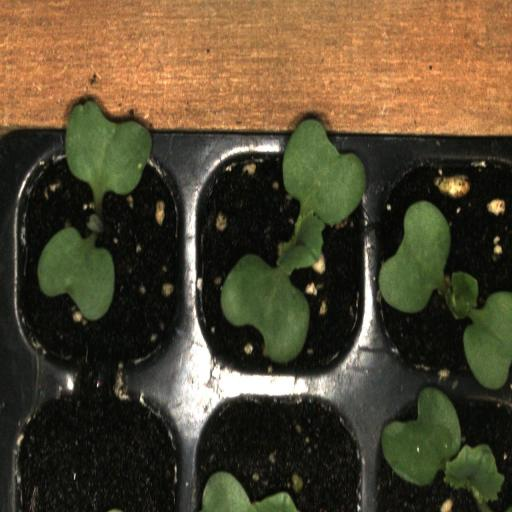Folha: (62, 101, 154, 202), (37, 214, 115, 321), (201, 471, 298, 512)
Germinacao: (8, 145, 191, 381), (190, 147, 371, 383), (373, 148, 512, 385), (372, 385, 512, 512)
